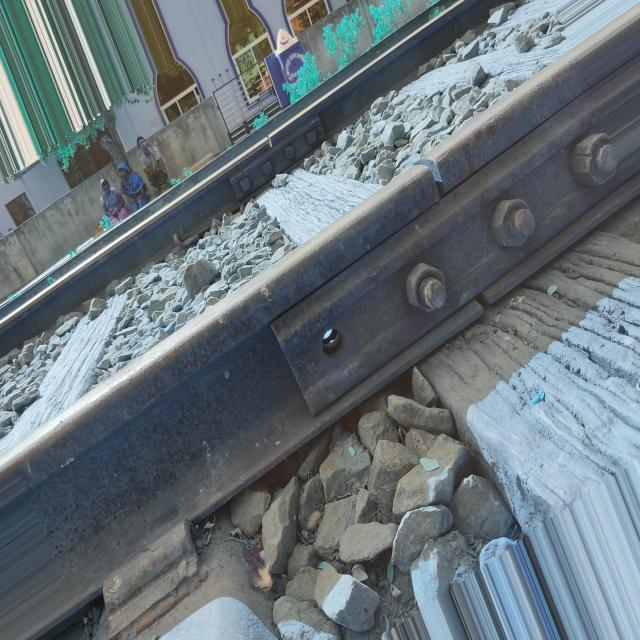Defective Joint: (272, 101, 621, 415)
Good Joint: (229, 114, 324, 201)
